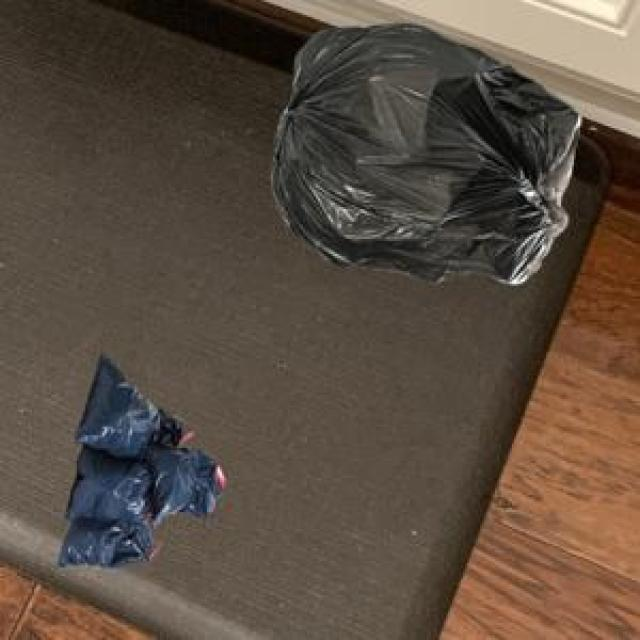Vinyl: (274, 26, 579, 284), (59, 356, 226, 565)
